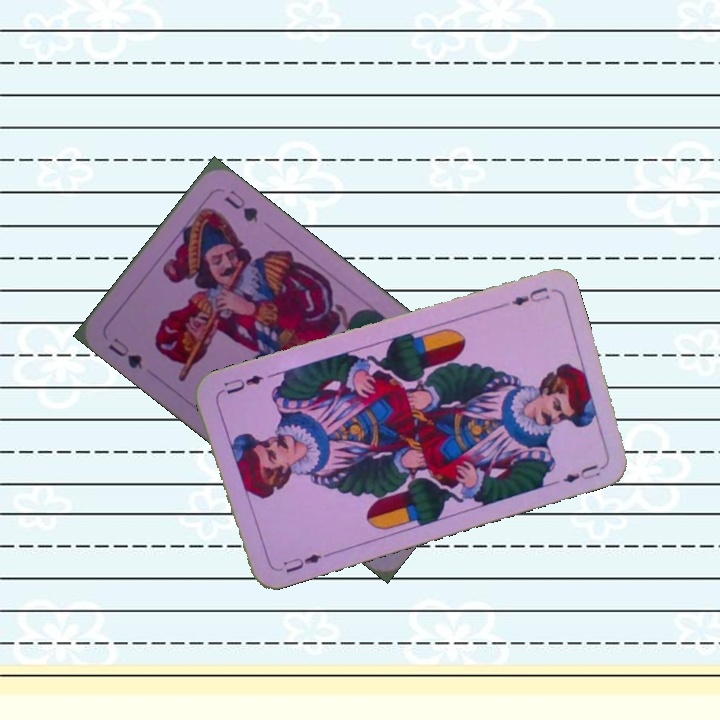EU: (273, 549, 324, 576), (507, 283, 553, 309)
GU: (104, 333, 145, 372)
